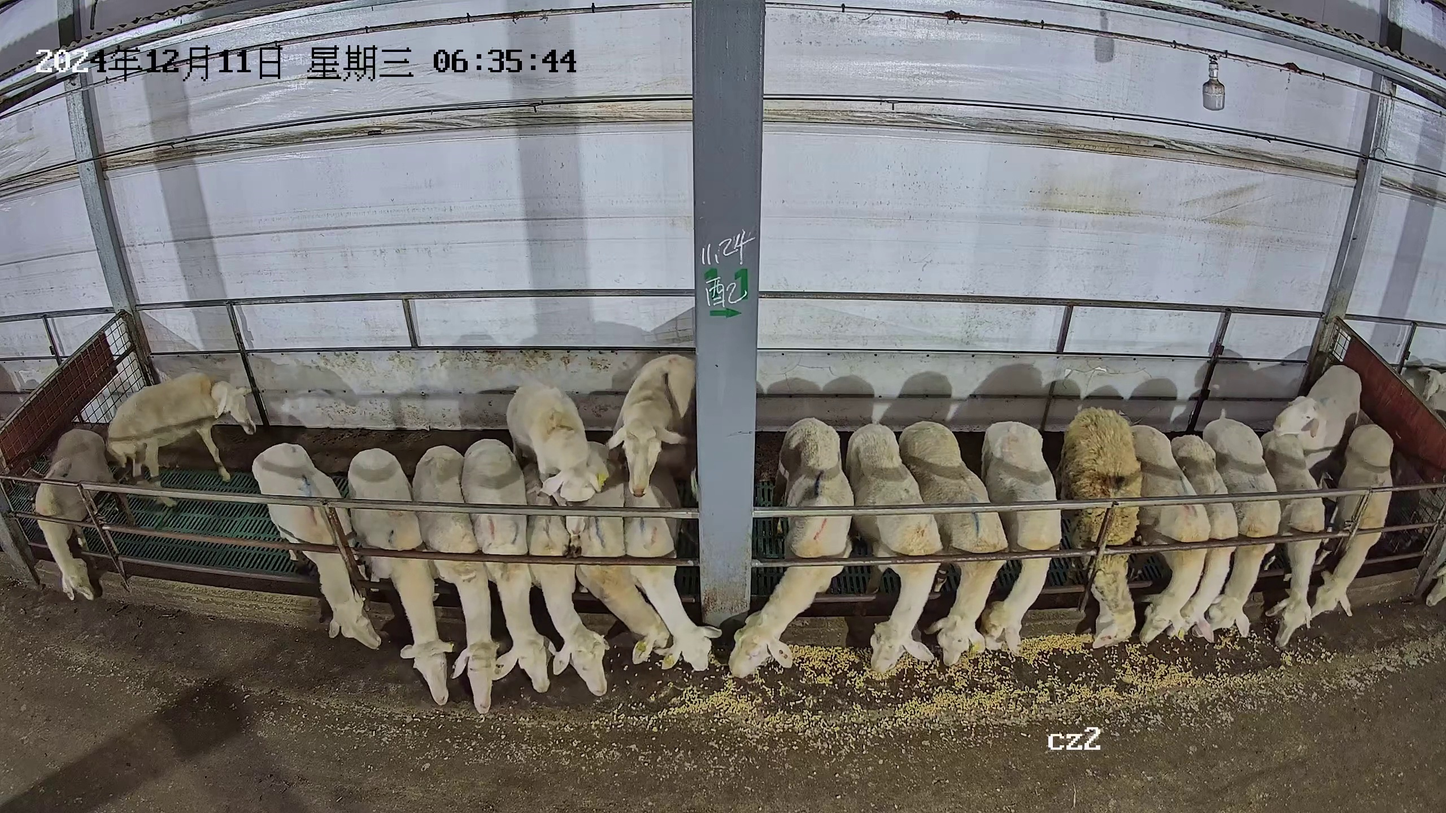Nmounting: (605, 352, 721, 671)
